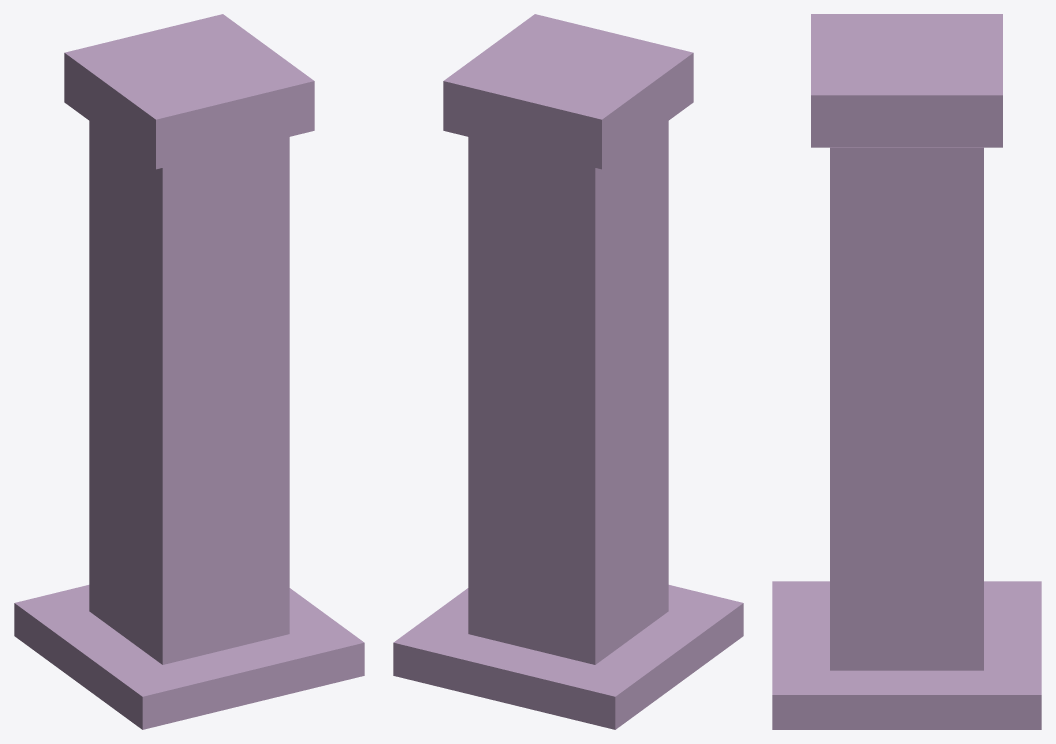
Rendered from Building_Shrine.fbx.
3 renders of one model, left to right at view 1: azimuth 30°, elevation 25°; view 2: azimuth 150°, elevation 25°; view 3: azimuth 270°, elevation 25°, orthographic. The views are drawn at different scales.
Visible parts, largest first — view 1: Shrine; view 2: Shrine; view 3: Shrine.
Boxes of the visible parts, x1,y1,x2,y2 form: Shrine: (14,14,364,729); Shrine: (393,14,743,729); Shrine: (772,14,1041,729).
Size of the model in its own units: 0.7 by 1.78 by 0.7.
